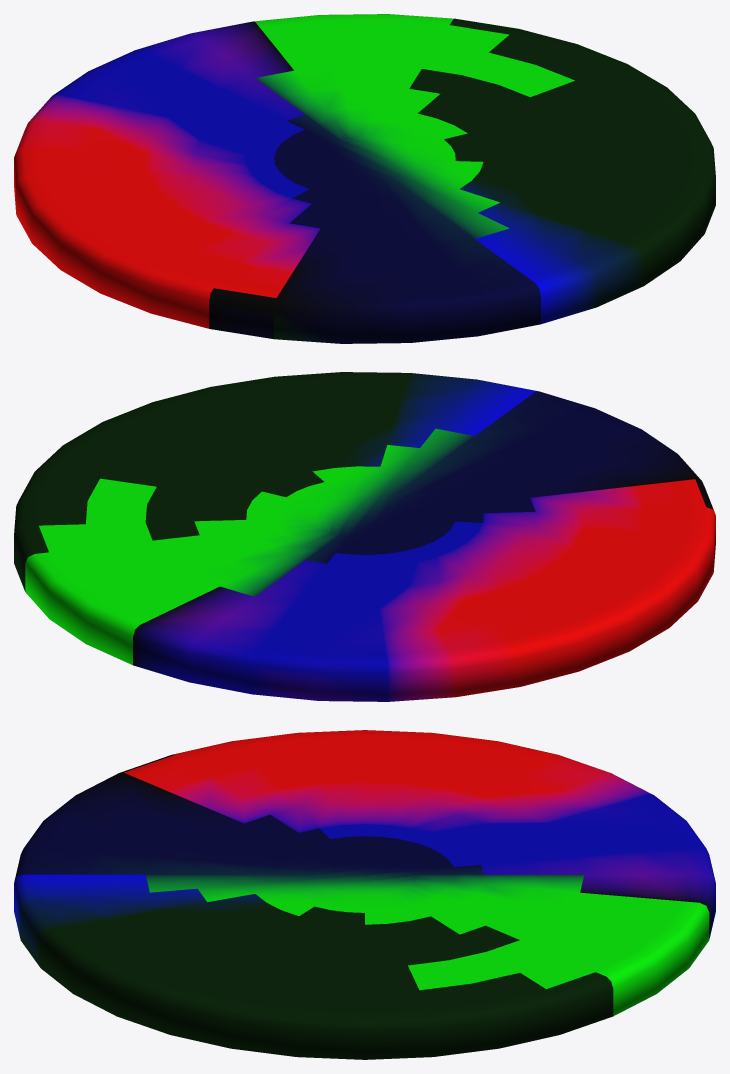
The model's file is Cylindervp.fbx.
3 renders of one model, top to bottom at view 1: azimuth 30°, elevation 25°; view 2: azimuth 150°, elevation 25°; view 3: azimuth 270°, elevation 25°, orthographic.
Visible parts, largest first — view 1: Cylinder.001; view 2: Cylinder.001; view 3: Cylinder.001.
Part boxes in pixels (x1,y1,x2,y2): Cylinder.001: [14, 14, 715, 343]; Cylinder.001: [14, 372, 715, 701]; Cylinder.001: [14, 730, 715, 1059].
Bounding box in the file's own units: 4817 × 280 × 4817.
